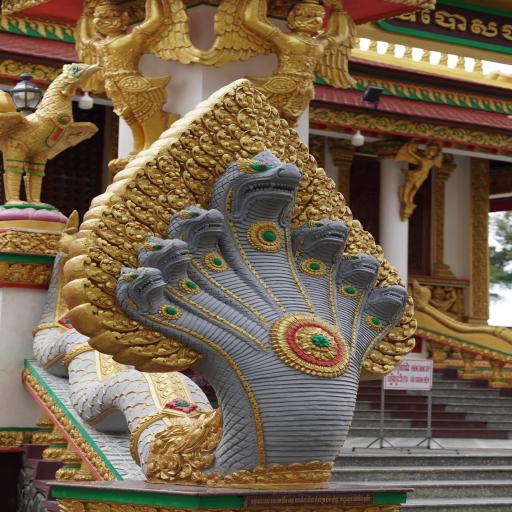ran: (19, 75, 428, 503)
than: (61, 0, 207, 167), (195, 0, 361, 135), (380, 128, 451, 214)
